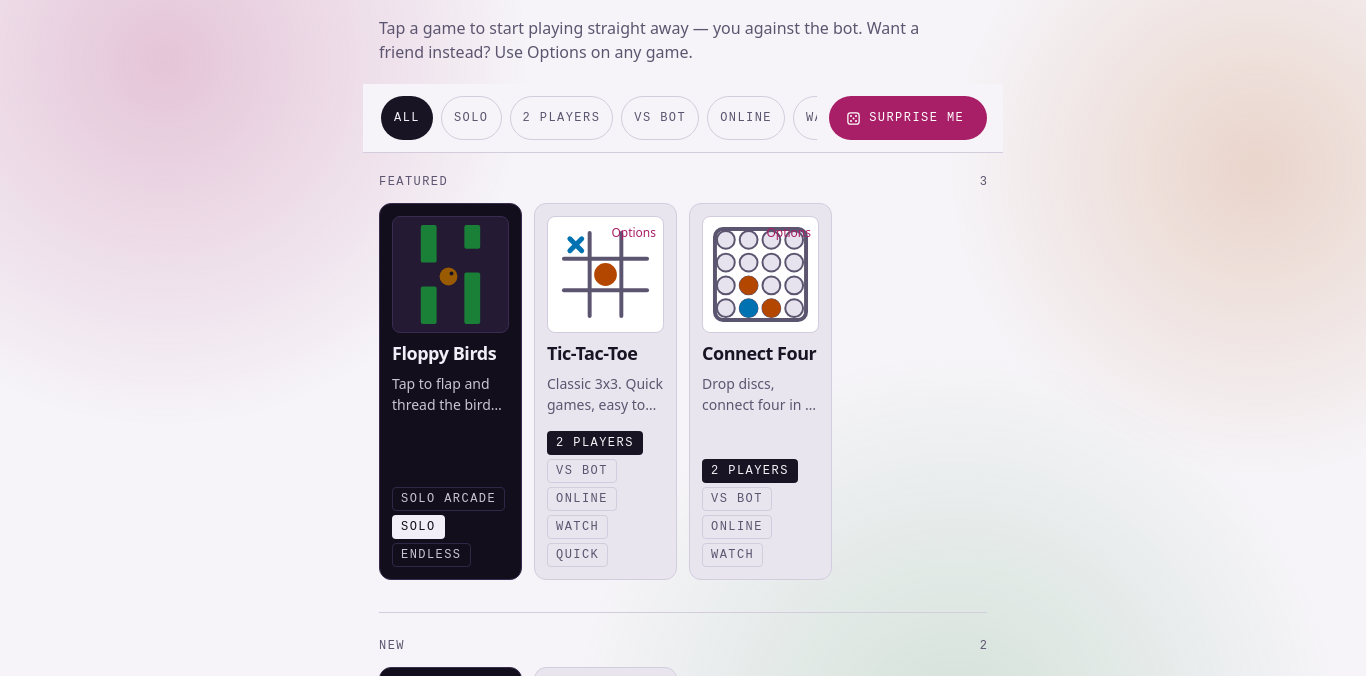
Test: HomeScreen › tag filter (MPG-112 / UI-5) › collapses the shelves into one flat list, headed by the match count
Click the button "Solo".
click(471, 118)  # box x1=441 y1=96 x2=502 y2=140
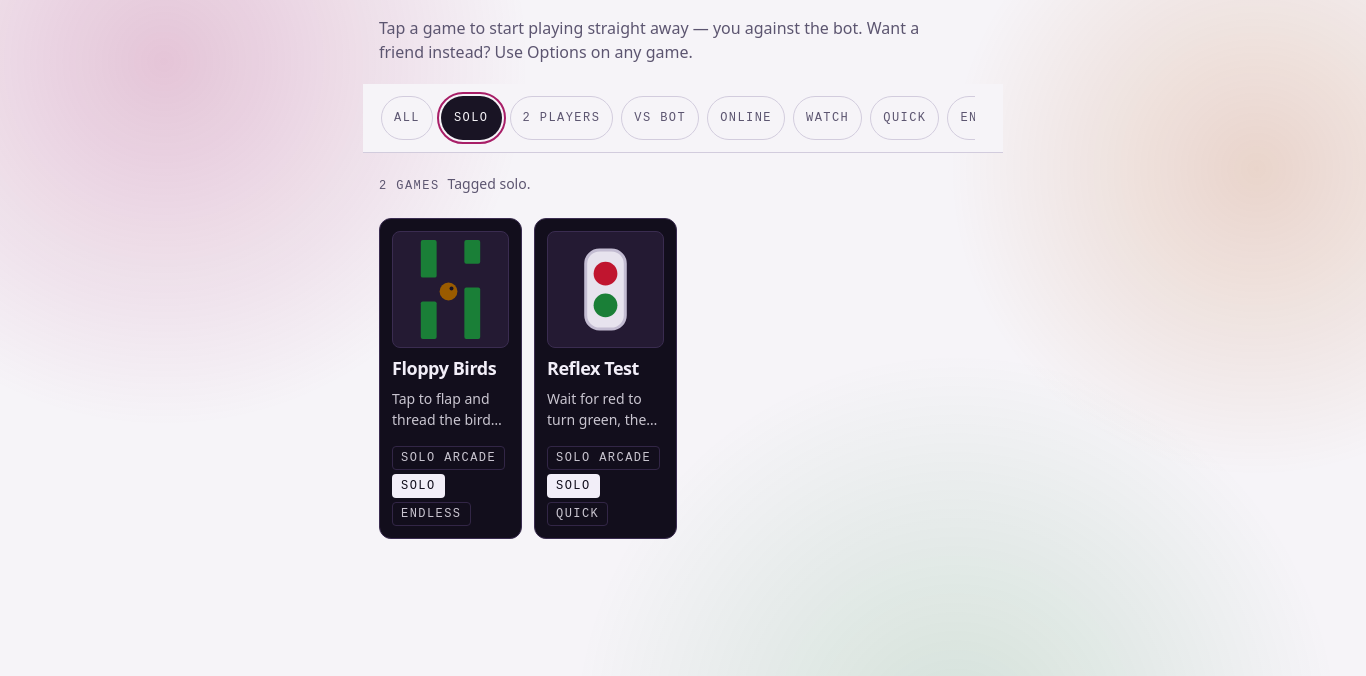
expect the heading "Featured" is gone: met
expect the heading "2 games" is shown: met, box x1=379 y1=177 x2=440 y2=195
